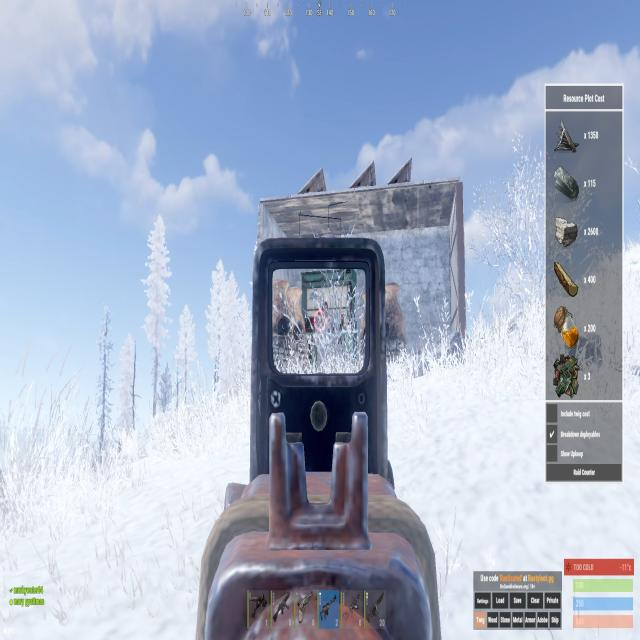Player: (314, 301, 337, 372)
